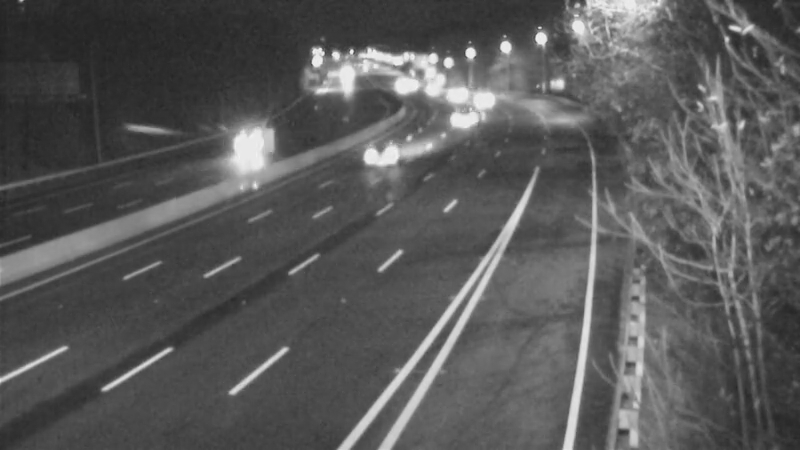vehicle: (338, 116, 418, 196), (210, 110, 290, 190), (409, 64, 459, 114), (429, 68, 479, 118), (458, 71, 508, 121), (439, 91, 489, 141)
